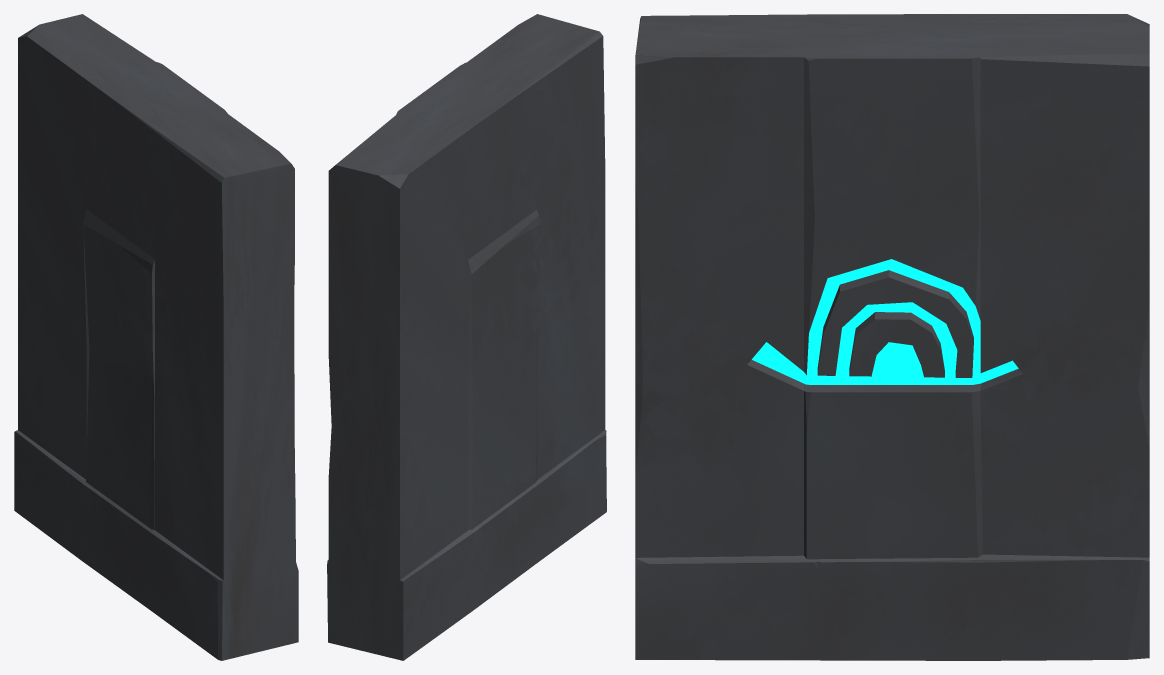
File: kiviovi.fbx
The picture shows the model from 3 angles, left to right: view 1: azimuth 30°, elevation 25°; view 2: azimuth 150°, elevation 25°; view 3: azimuth 270°, elevation 25°; orthographic projection. The views are drawn at different scales.
Visible parts, largest first — view 1: wall 2.002; view 2: wall 2.002; view 3: wall 2.002.
Boxes of the visible parts, bbox=[...] form: wall 2.002: bbox=[14, 14, 298, 660]; wall 2.002: bbox=[327, 14, 606, 660]; wall 2.002: bbox=[635, 14, 1149, 660].
Size of the model in its own units: 36.61 by 206 by 160.
